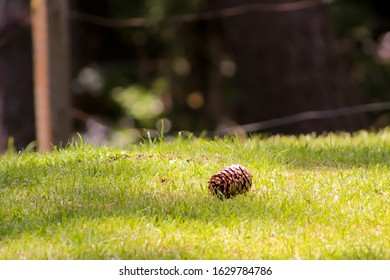Pc: (204, 161, 253, 199)
